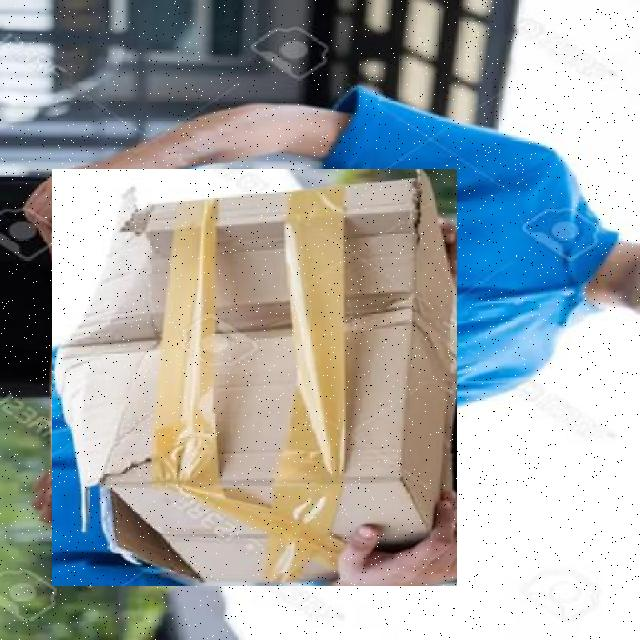defect: (52, 169, 457, 586)
